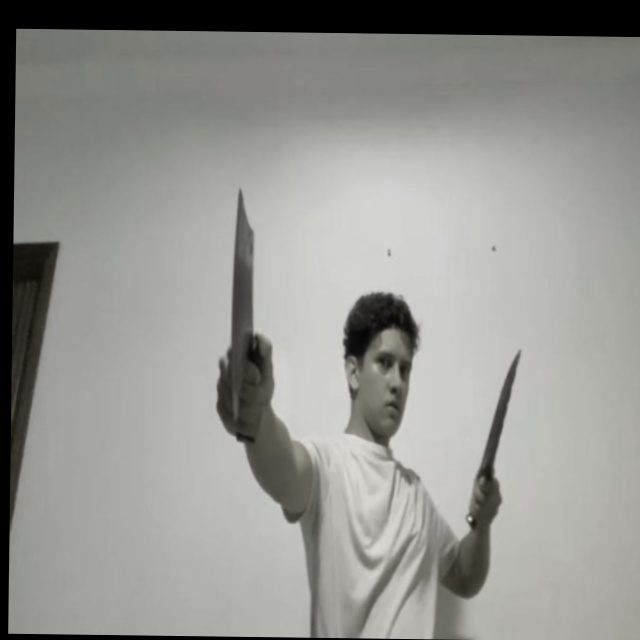Sharp-Object: (229, 189, 256, 400), (480, 349, 522, 475)
